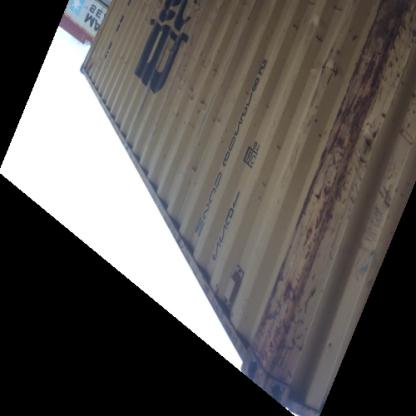Damage: (292, 18, 415, 252), (250, 258, 332, 388), (176, 83, 230, 133)
